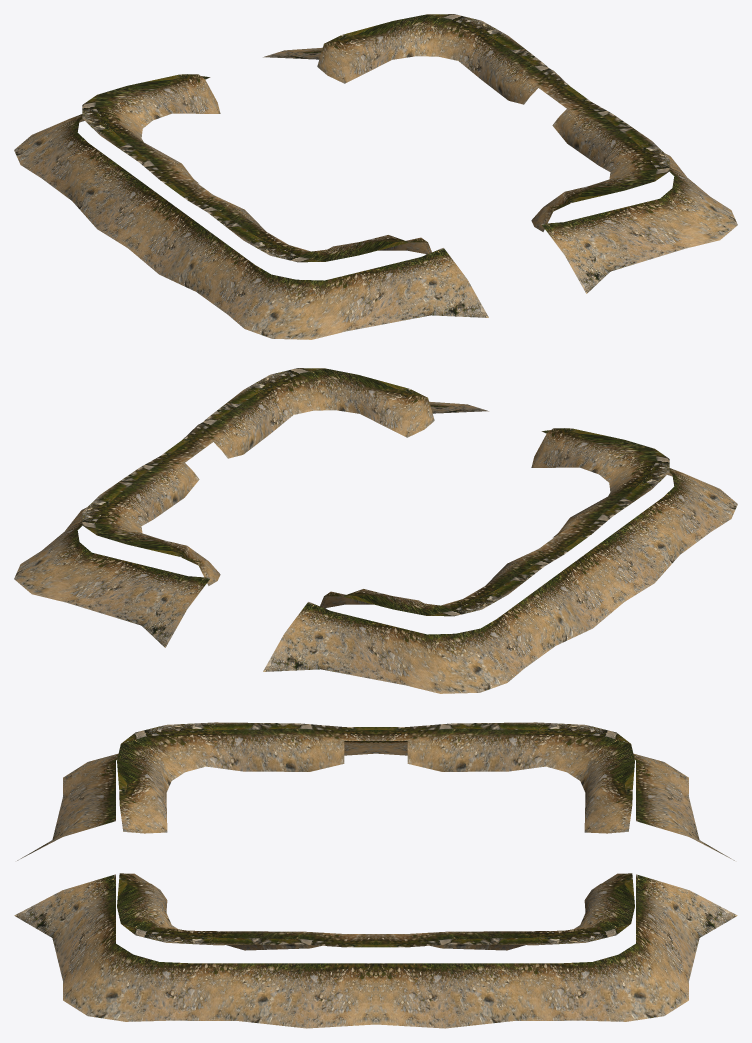
File: rome_camp_turf.dae
3 renders of one model, top to bottom at view 1: azimuth 30°, elevation 25°; view 2: azimuth 150°, elevation 25°; view 3: azimuth 270°, elevation 25°, orthographic. The views are drawn at different scales.
Parts seen in each view (by area): view 1: rome_sb_turf; view 2: rome_sb_turf; view 3: rome_sb_turf.
Boxes of the visible parts, left/top/right/bottom form: rome_sb_turf: left=14, top=14, right=737, bottom=339; rome_sb_turf: left=14, top=368, right=737, bottom=693; rome_sb_turf: left=14, top=722, right=737, bottom=1028.
Bounding box in the file's own units: 35.09 × 3.62 × 39.64.
